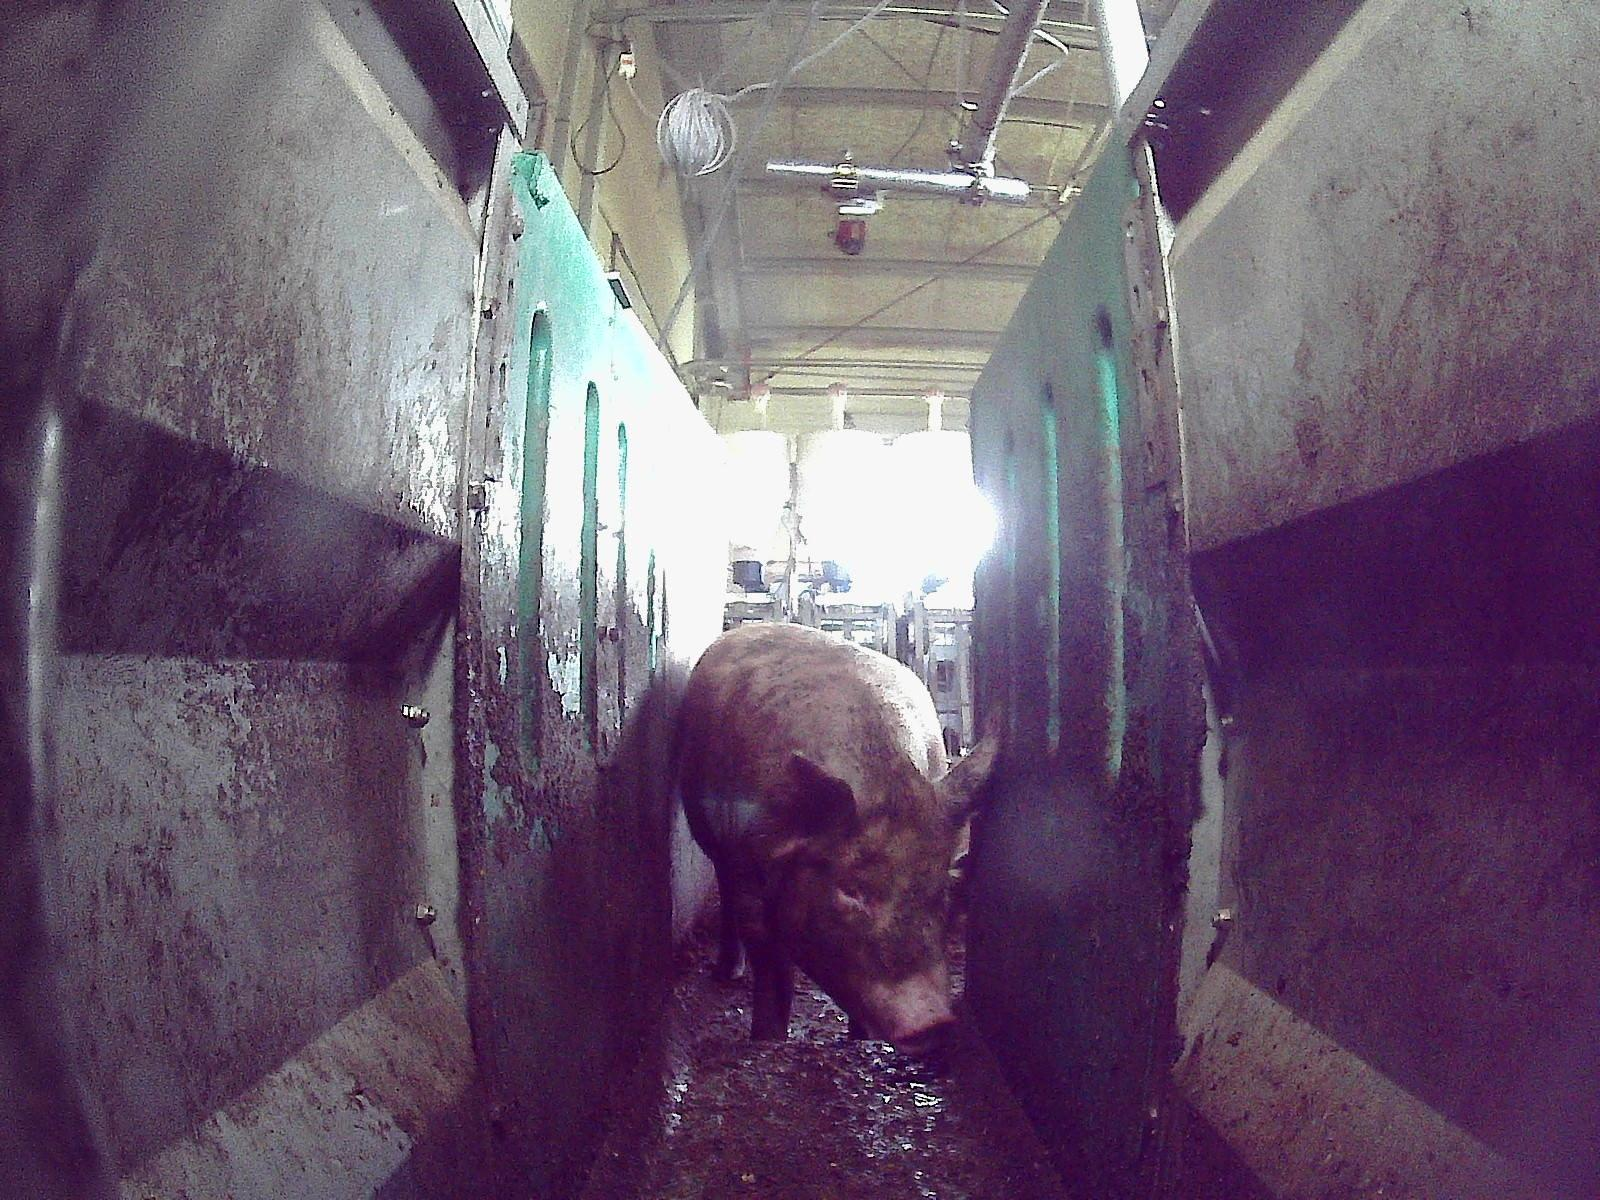Face: (785, 796, 958, 1053)
